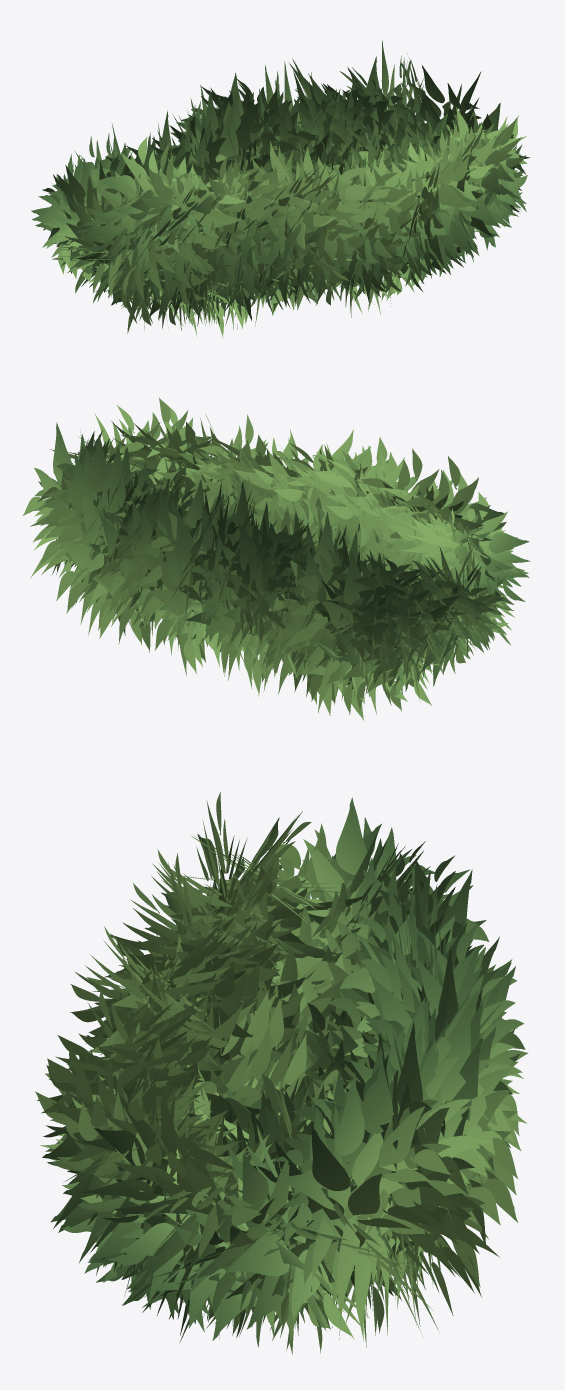
File: SM_bush_leaves_04.fbx
3 renders of one model, top to bottom at view 1: azimuth 30°, elevation 25°; view 2: azimuth 150°, elevation 25°; view 3: azimuth 270°, elevation 25°, orthographic. The views are drawn at different scales.
Parts seen in each view (by area): view 1: bush_leaves_04; view 2: bush_leaves_04; view 3: bush_leaves_04.
Boxes of the visible parts, x1,y1,x2,y2 form: bush_leaves_04: [31, 40, 529, 338]; bush_leaves_04: [23, 398, 530, 720]; bush_leaves_04: [35, 792, 528, 1354].
Bounding box in the file's own units: 327 × 163 × 183.
